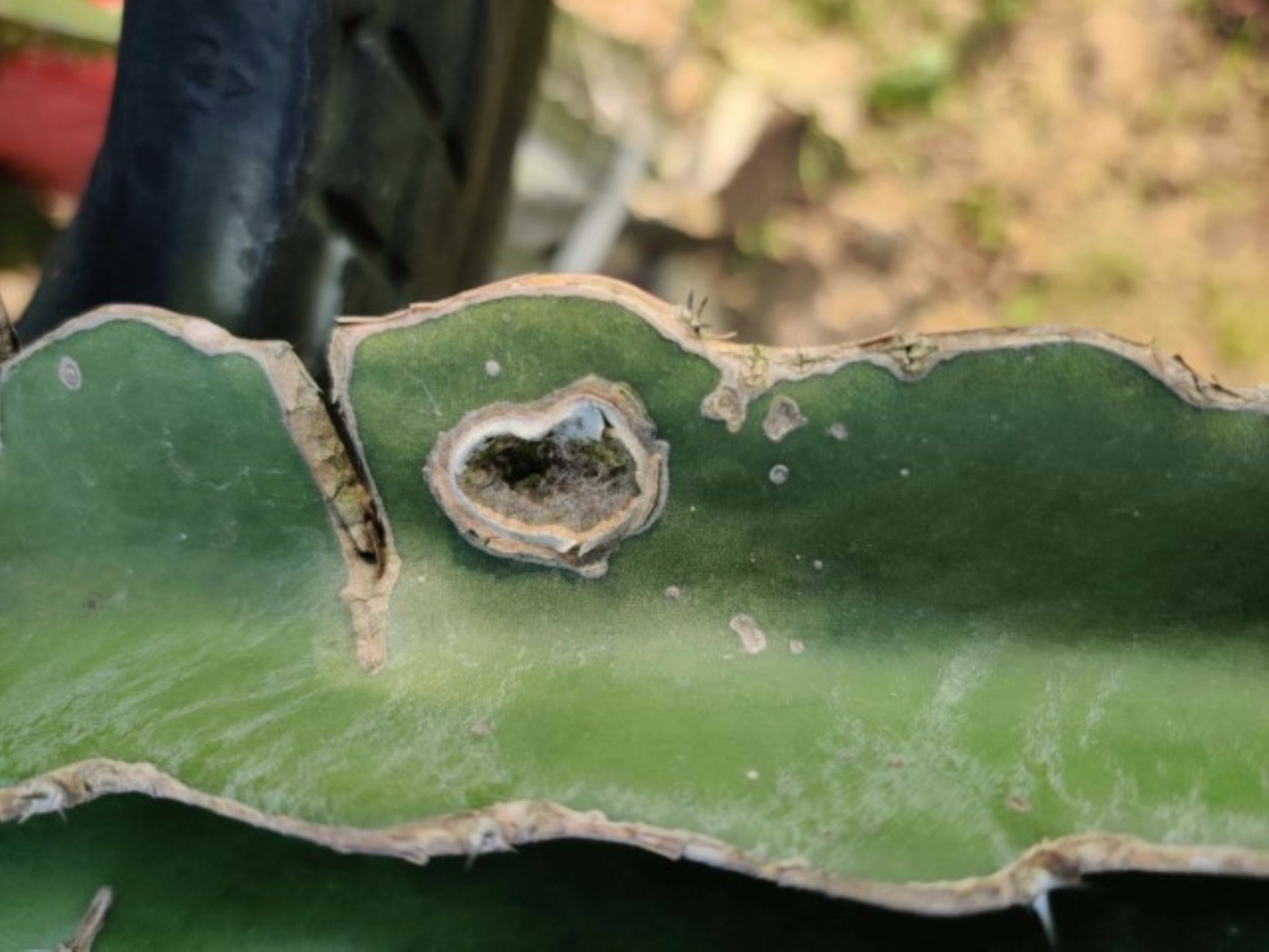stemcanker: (127, 214, 897, 715)
